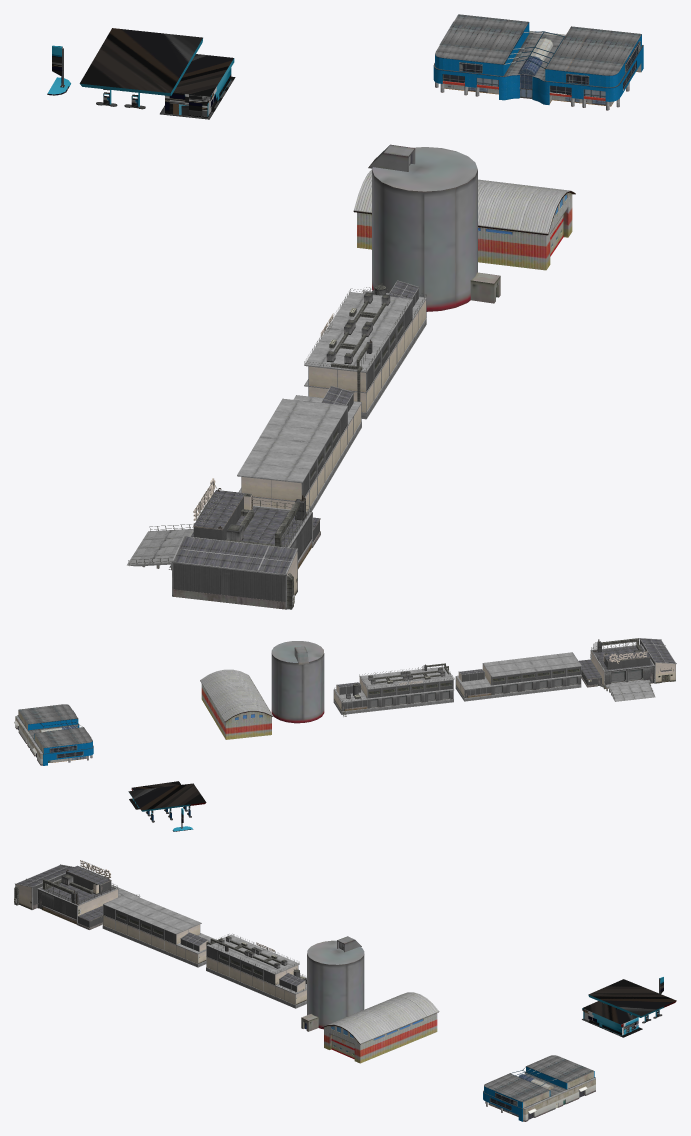
Rendered from Terrain Assest.fbx.
3 renders of one model, top to bottom at view 1: azimuth 30°, elevation 25°; view 2: azimuth 150°, elevation 25°; view 3: azimuth 270°, elevation 25°, orthographic. The views are drawn at different scales.
Parts seen in each view (by area): view 1: refined, Buildings2, Buildings3, Buildings, Buildings1, Petrol_Pum, Hangar; view 2: Buildings2, Buildings1, Buildings, refined, Hangar, Buildings3, Petrol_Pum; view 3: Hangar, refined, Buildings2, Buildings3, Buildings1, Buildings, Petrol_Pum.
Part boxes in pixels (<box>): refined: <box>368,144,500,311</box>; Buildings2: <box>127,478,320,609</box>; Buildings3: <box>433,14,643,110</box>; Buildings: <box>304,280,426,419</box>; Buildings1: <box>237,386,361,511</box>; Petrol_Pum: <box>47,28,235,119</box>; Hangar: <box>353,169,575,270</box>; Buildings2: <box>579,638,676,701</box>; Buildings1: <box>455,652,581,701</box>; Buildings: <box>333,663,454,716</box>; refined: <box>271,641,324,723</box>; Hangar: <box>200,669,273,739</box>; Buildings3: <box>14,704,93,765</box>; Petrol_Pum: <box>128,781,206,831</box>; Hangar: <box>322,992,439,1063</box>; refined: <box>301,936,364,1031</box>; Buildings2: <box>14,860,140,929</box>; Buildings3: <box>483,1055,595,1121</box>; Buildings1: <box>102,893,216,967</box>; Buildings: <box>206,934,306,1008</box>; Petrol_Pum: <box>582,977,676,1037</box>.
Size of the model in its own units: 33411 by 4846 by 39204.
